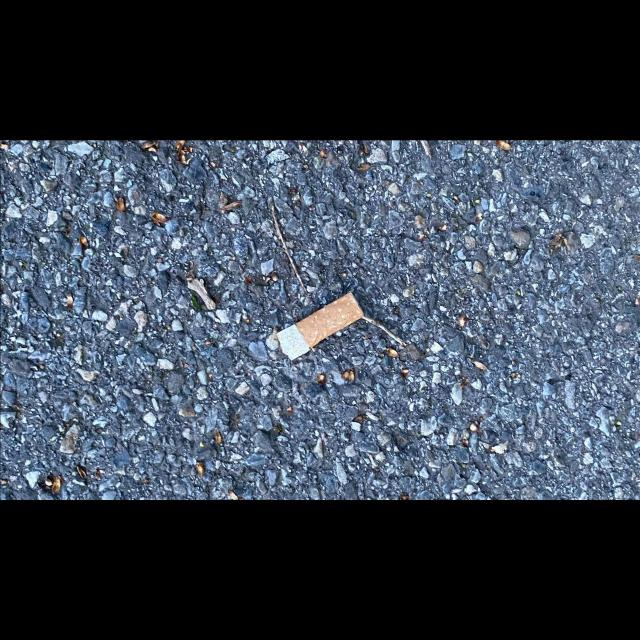cigarette: (274, 290, 365, 362)
